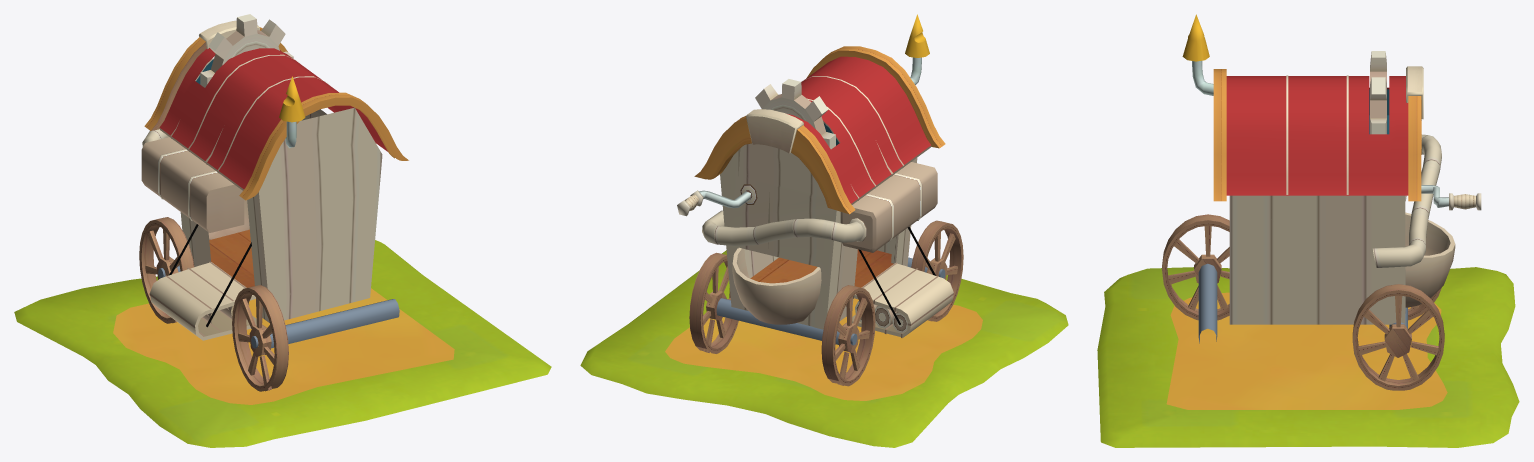
The model's file is B_Tinker_Station.fbx.
3 renders of one model, left to right at view 1: azimuth 30°, elevation 25°; view 2: azimuth 150°, elevation 25°; view 3: azimuth 270°, elevation 25°, orthographic. The views are drawn at different scales.
Parts seen in each view (by area): view 1: B_Tinker_Station; view 2: B_Tinker_Station; view 3: B_Tinker_Station.
Part boxes in pixels (bbox=[...]): B_Tinker_Station: bbox=[14, 14, 551, 447]; B_Tinker_Station: bbox=[580, 14, 1068, 447]; B_Tinker_Station: bbox=[1097, 14, 1519, 447].
Size of the model in its own units: 5.97 by 5.07 by 5.98.
